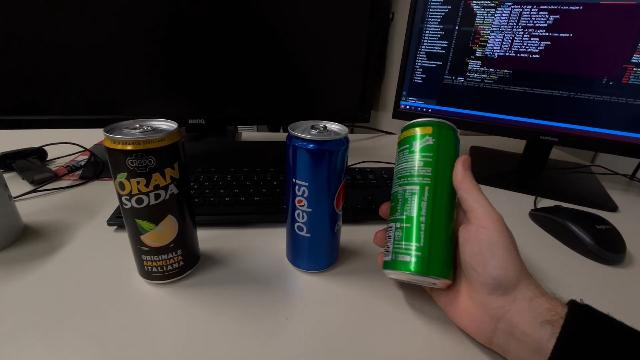OranSoda: (102, 117, 204, 285)
Pepsi: (284, 117, 350, 275)
Sprite: (380, 115, 462, 290)
